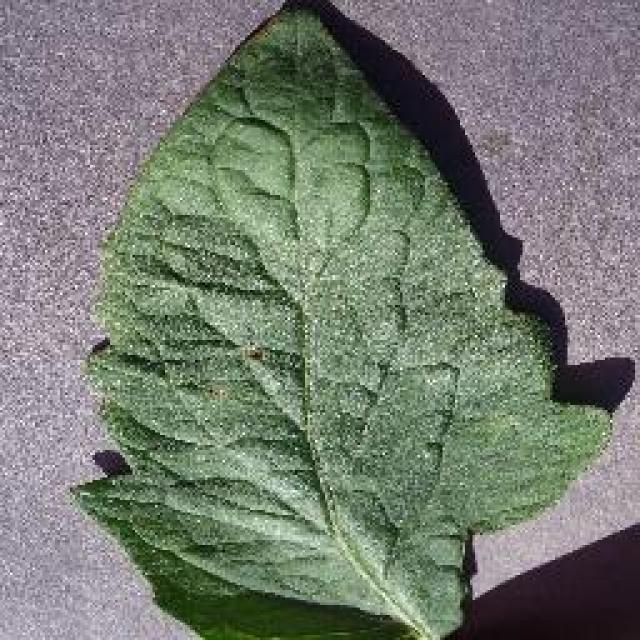Tomato Septoria spot leaf: (71, 4, 614, 634)
